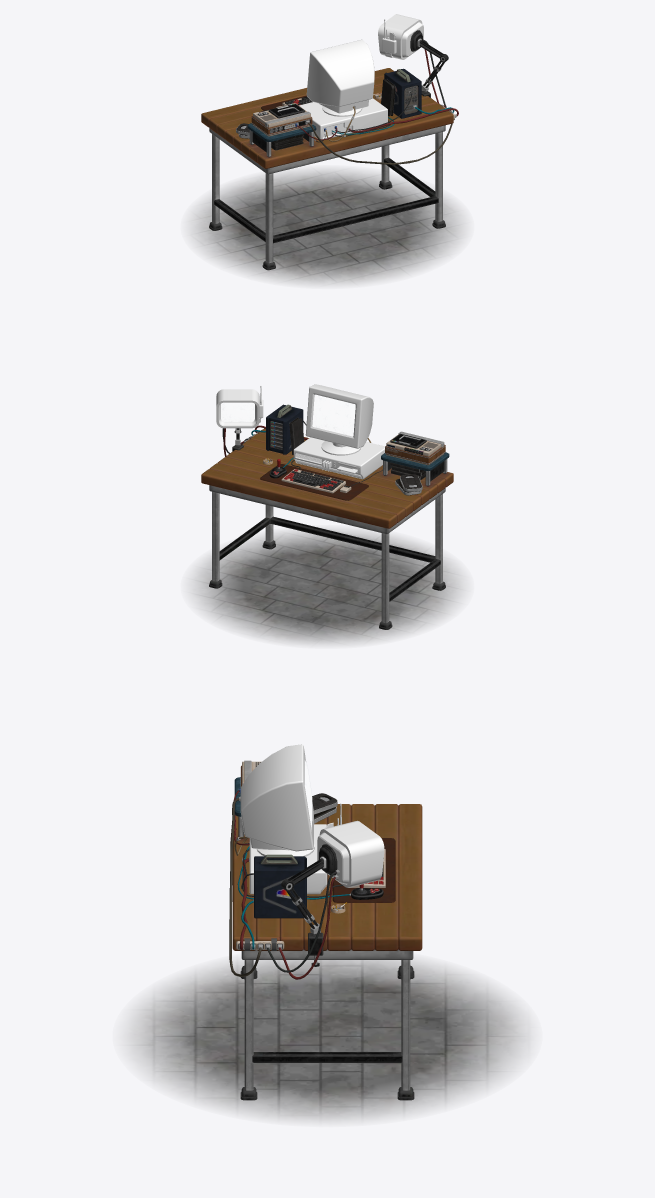
File: hacker-room.glb
The picture shows the model from 3 angles, top to bottom: view 1: azimuth 30°, elevation 25°; view 2: azimuth 150°, elevation 25°; view 3: azimuth 270°, elevation 25°; orthographic projection. The views are drawn at different scales.
Parts seen in each view (by area): view 1: table_table_mat_0; view 2: table_table_mat_0, screen_screens_0; view 3: table_table_mat_0.
Part boxes in pixels (x1,y1,x2,y2): table_table_mat_0: [189, 14, 465, 284]; table_table_mat_0: [189, 384, 465, 644]; screen_screens_0: [221, 394, 355, 436]; table_table_mat_0: [126, 744, 528, 1121].
Size of the model in its own units: 272 by 119 by 245.
Materials: 14 (11 with a texture image).
